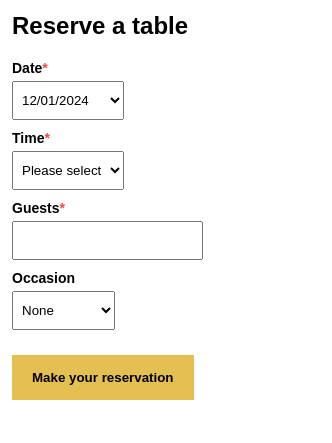
Test: Inline error message shows on booking form when invalid field value entered
Type "0" into the number field with test id "guests" at (108, 240), box [12,221,203,260]
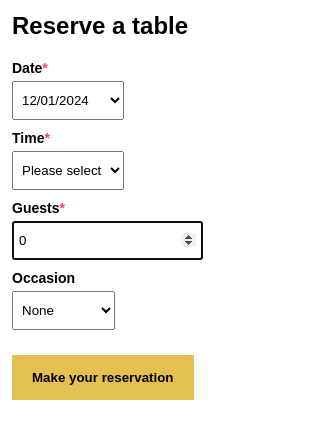
Click the button with test id "submit" at (103, 377), box [12,355,194,400]
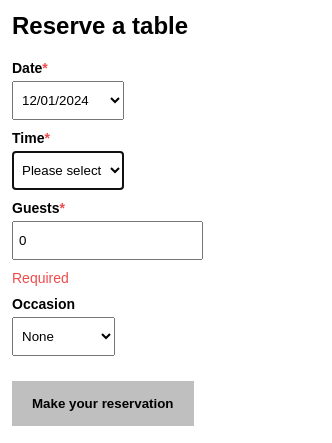
Expected: the text with test id "guests-error" reads "Required", [12,270,69,286]
